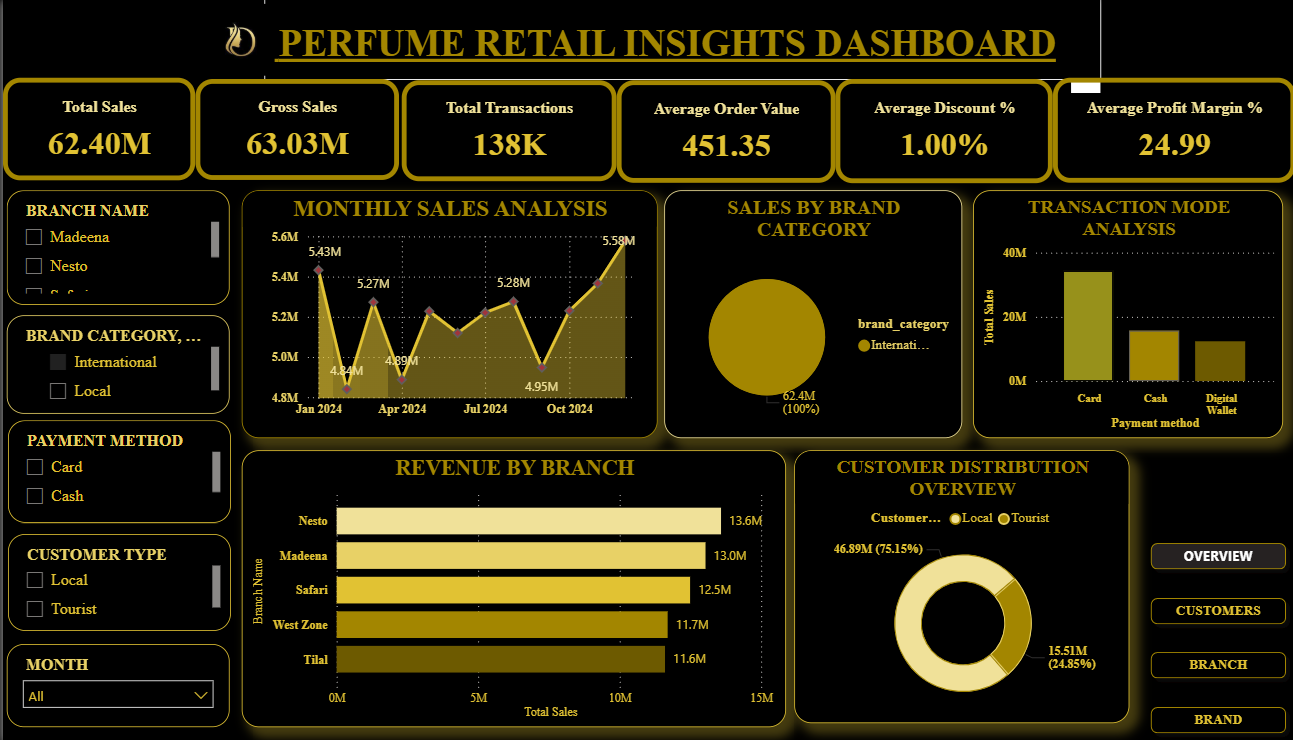

The dashboard page shown, as its layout file describes it:
{"tool":"powerbi","page":{"name":"OVERVIEW","canvas":[1280,739],"ordinal":0},"visuals":[{"type":"textbox","box":[259.3,0,828.8,81],"z":0},{"type":"image","box":[190.7,0,89.2,81],"z":1000},{"type":"slicer","fields":{"Values":["CustomerSegment.customer_type"]},"box":[5.5,529.7,220.9,96.1],"z":2000},{"type":"slicer","fields":{"Values":["PaymentMethod.payment_method"]},"box":[5.5,417.2,220.9,101.5],"z":3000},{"type":"slicer","fields":{"Values":["Brand.brand_category","Brand.brand_category"]},"box":[4.1,312.9,220.9,97.4],"z":4000},{"type":"slicer","fields":{"Values":["Store.branch_name"]},"box":[4.1,189.4,220.9,113.9],"z":5000},{"type":"slicer","fields":{"Values":["Date.date.Variation.Date Hierarchy.Month"]},"box":[4.1,639.5,220.9,82.3],"z":6000},{"type":"lineChart","title":"MONTHLY SALES ANALYSIS","fields":{"Y":["Sales2024.Total Sales"],"Category":["Date.date.Variation.Date Hierarchy.Year","Date.date.Variation.Date Hierarchy.Month"]},"box":[236,189.4,411.7,245.6],"z":7000},{"type":"pieChart","title":"SALES BY BRAND CATEGORY","fields":{"Y":["Sales2024.Total Sales"],"Category":["Brand.brand_category"]},"box":[654.5,189.4,295,245.6],"z":8000},{"type":"columnChart","title":"TRANSACTION MODE ANALYSIS","fields":{"Y":["Sales2024.Total Sales"],"Category":["PaymentMethod.payment_method"]},"box":[960.6,189.4,307.4,245.6],"z":9000},{"type":"barChart","title":"REVENUE BY BRANCH","fields":{"Y":["Sales2024.Total Sales"],"Category":["Branch.branch_name"]},"box":[236,447.3,539.3,274.4],"z":10000},{"type":"donutChart","title":"CUSTOMER DISTRIBUTION OVERVIEW","fields":{"Category":["CustomerSegment.customer_type"],"Y":["Sales2024.Total Sales"]},"box":[783.5,447.3,332.1,270.3],"z":11000},{"type":"cardVisual","fields":{"Data":["Sales2024.Total Sales"]},"box":[0,78.2,190.7,101.5],"z":12000},{"type":"cardVisual","fields":{"Data":["Sales2024.Gross Sales"]},"box":[190.7,79.6,201.7,100.2],"z":13000},{"type":"cardVisual","fields":{"Data":["Sales2024.Total Transactions"]},"box":[395.2,81,212.7,100.2],"z":14000},{"type":"cardVisual","fields":{"Data":["Sales2024.Average Order Value"]},"box":[607.9,81,216.8,101.5],"z":15000},{"type":"cardVisual","fields":{"Data":["Sales2024.Average Profit Margin %"]},"box":[1040.1,78.2,240.1,104.3],"z":16000},{"type":"cardVisual","fields":{"Data":["Sales2024.Average Discount %"]},"box":[824.7,79.6,215.4,102.9],"z":17000},{"type":"pageNavigator","box":[1128,529.7,152.3,209.9],"z":18000}]}

Visuals, with their boxes in screenshot pixels (x1, y1, x2, y2), scaled from the page's 1280x739 canvas onto the 1293x740 screenshot:
textbox: x1=262, y1=0, x2=1099, y2=81
image: x1=193, y1=0, x2=283, y2=81
slicer - CustomerSegment.customer_type: x1=6, y1=530, x2=229, y2=627
slicer - PaymentMethod.payment_method: x1=6, y1=418, x2=229, y2=519
slicer - Brand.brand_category x Brand.brand_category: x1=4, y1=313, x2=227, y2=411
slicer - Store.branch_name: x1=4, y1=190, x2=227, y2=304
slicer - Date.date.Variation.Date Hierarchy.Month: x1=4, y1=640, x2=227, y2=723
"MONTHLY SALES ANALYSIS" lineChart: x1=238, y1=190, x2=654, y2=436
"SALES BY BRAND CATEGORY" pieChart: x1=661, y1=190, x2=959, y2=436
"TRANSACTION MODE ANALYSIS" columnChart: x1=970, y1=190, x2=1281, y2=436
"REVENUE BY BRANCH" barChart: x1=238, y1=448, x2=783, y2=723
"CUSTOMER DISTRIBUTION OVERVIEW" donutChart: x1=791, y1=448, x2=1127, y2=719
cardVisual - Sales2024.Total Sales: x1=0, y1=78, x2=193, y2=180
cardVisual - Sales2024.Gross Sales: x1=193, y1=80, x2=396, y2=180
cardVisual - Sales2024.Total Transactions: x1=399, y1=81, x2=614, y2=181
cardVisual - Sales2024.Average Order Value: x1=614, y1=81, x2=833, y2=183
cardVisual - Sales2024.Average Profit Margin %: x1=1051, y1=78, x2=1292, y2=183
cardVisual - Sales2024.Average Discount %: x1=833, y1=80, x2=1051, y2=183
pageNavigator: x1=1139, y1=530, x2=1292, y2=739
